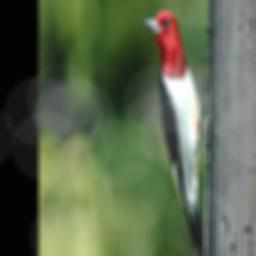Woodpecker: (143, 8, 217, 256)
